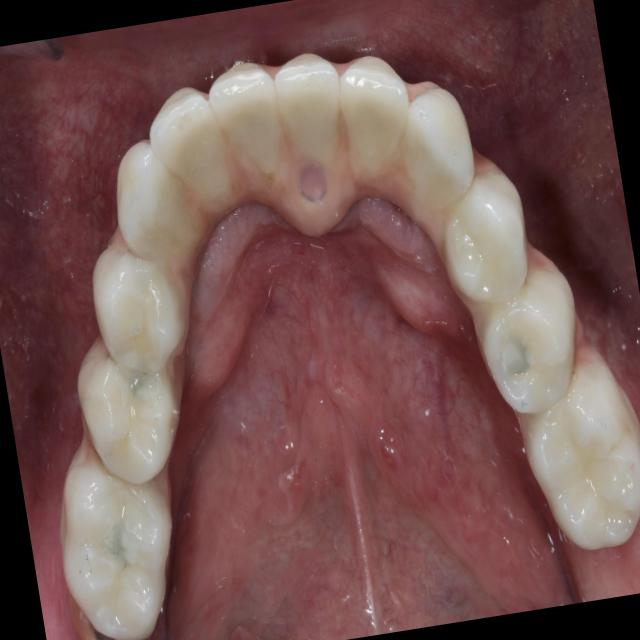Caries: (93, 626, 116, 640)
Cavity: (81, 497, 133, 580), (114, 310, 153, 361)
Tooth: (528, 362, 640, 551), (62, 462, 172, 640), (481, 266, 576, 414), (78, 354, 179, 485), (92, 242, 185, 375), (445, 169, 528, 303), (117, 143, 197, 261), (402, 88, 475, 212), (150, 89, 230, 201), (339, 56, 411, 177), (209, 69, 282, 173), (274, 59, 341, 169)
